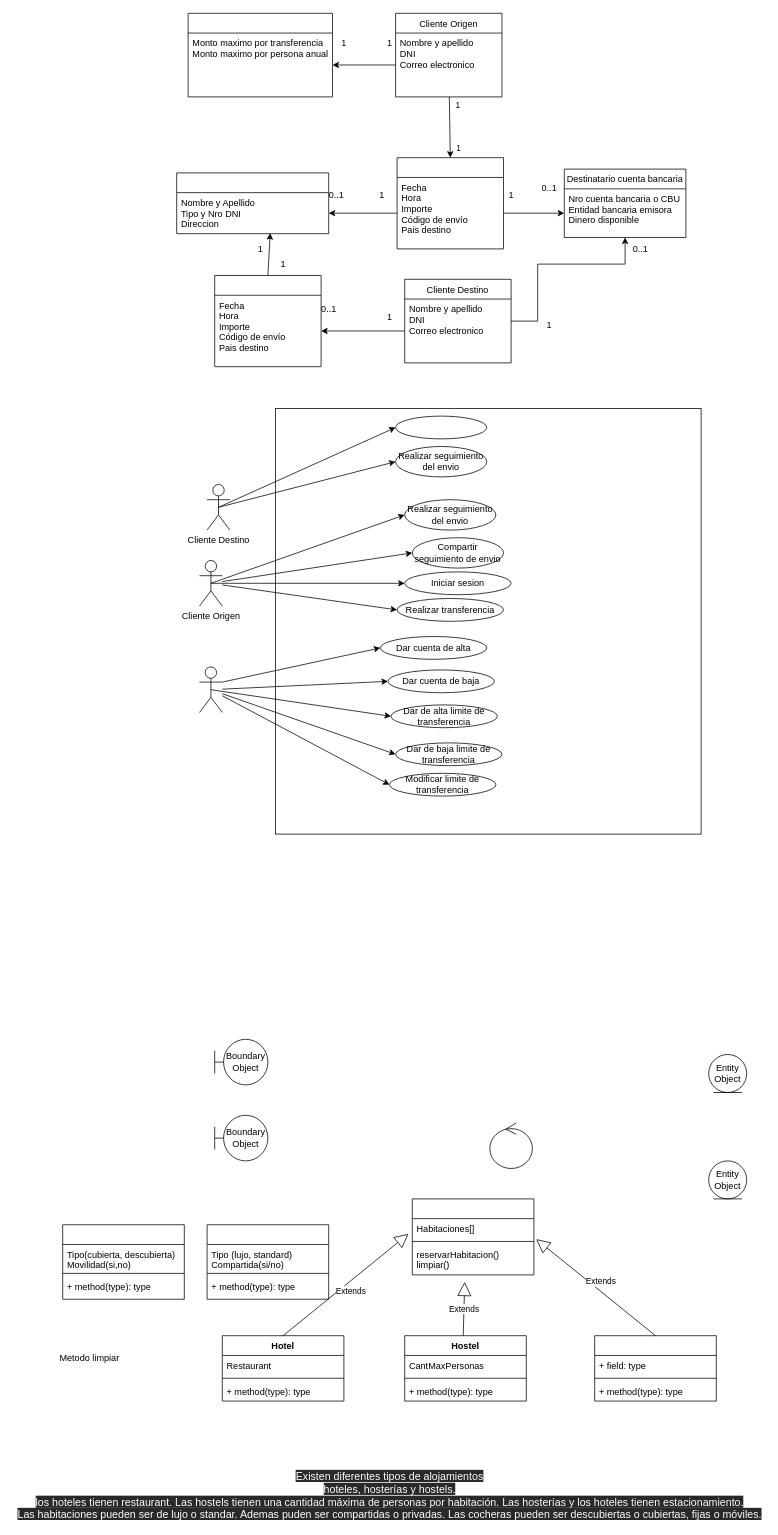
Some shapes in this 778 by 1535 pixel diagram are drawn without their labels. Here are the shapes that lost their labels. From the top down, the box of each, then its label:
(187, 13, 332, 97): Limite Transferencia
(176, 172, 329, 234): Destinatario punto Tran$ferir
(396, 157, 504, 249): Transaccion
(214, 275, 321, 367): Extraccion
(395, 415, 487, 439): Extraer dinero
(199, 666, 222, 712): Admin
(489, 1122, 532, 1168): Control Object
(412, 1198, 534, 1275): Alojamiento
(62, 1224, 184, 1299): Cochera
(206, 1224, 329, 1299): Habitacion
(594, 1335, 716, 1401): Hostería
